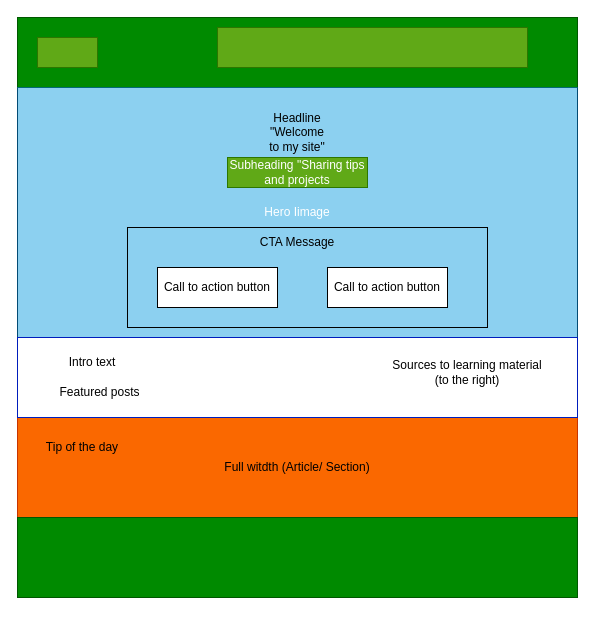
Image size: 595x623. Some labels were removed from this diagram. Each missing label, with the centre of its shape:
"Footer (Have social links and references -> cited sources)" belongs at [297,557].
"Icon" belongs at [67,52].
"Nav links (4)" belongs at [372,47].
